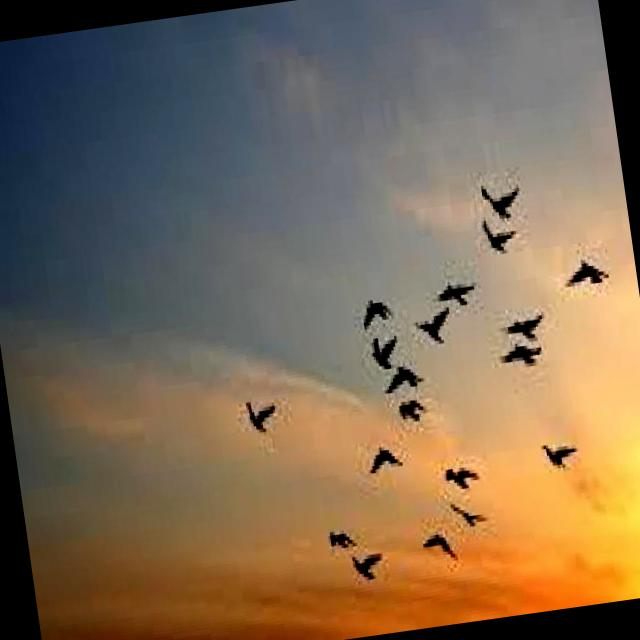bird: (240, 384, 282, 438), (476, 176, 524, 223), (502, 306, 556, 346), (384, 365, 431, 406), (365, 442, 412, 482), (565, 263, 617, 299), (500, 338, 548, 377), (540, 436, 581, 479), (420, 528, 460, 571), (442, 456, 483, 496), (414, 310, 456, 348), (479, 220, 521, 256), (436, 277, 479, 312), (358, 291, 394, 332), (446, 500, 489, 533), (369, 334, 401, 372), (353, 551, 387, 586), (397, 396, 428, 432), (328, 527, 357, 552)
